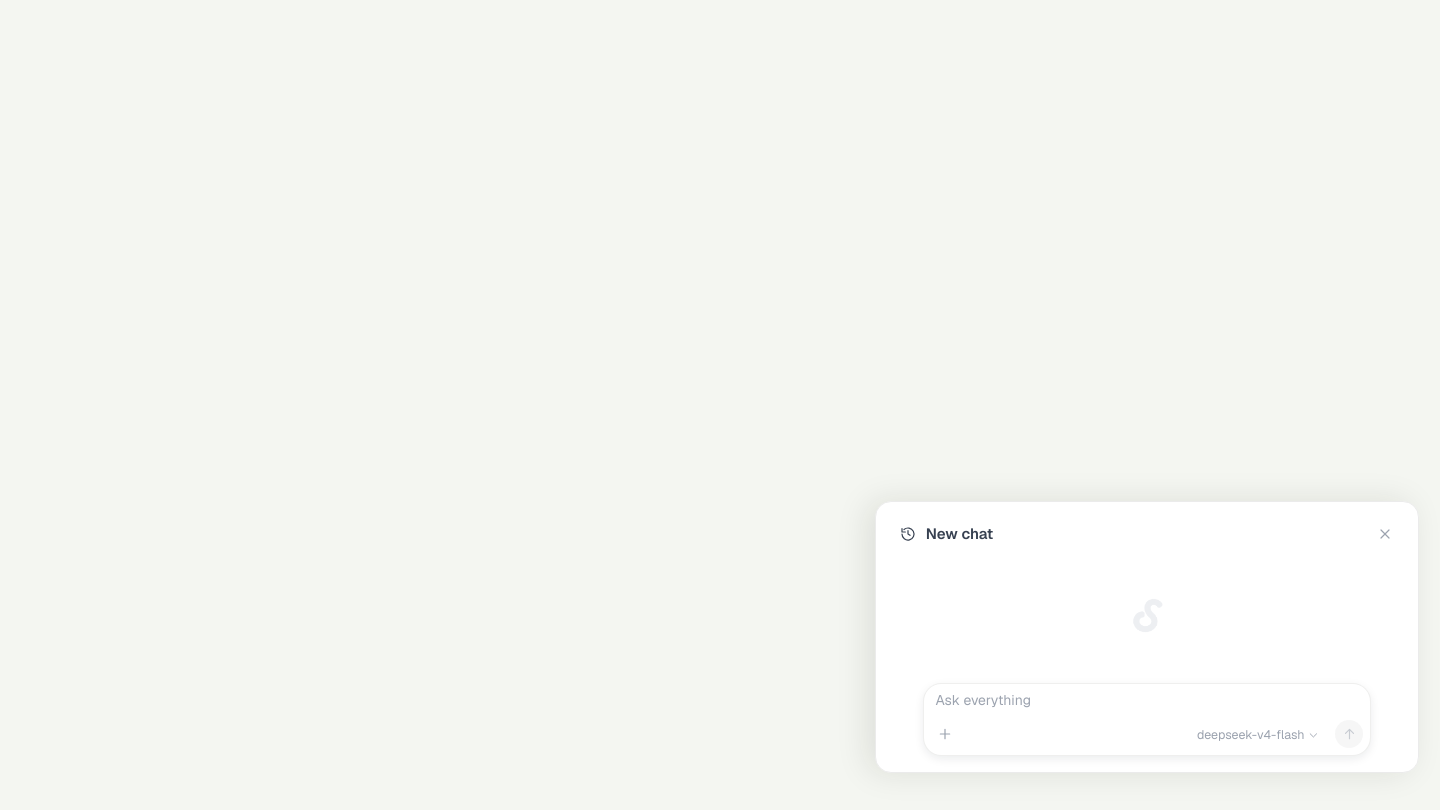
WorkspaceAiChat composer › keeps the textarea writable and preserves a next draft while a request is pending
This screenshot has width=1440, height=810.
Step 1. Type "Prima domanda" into the text box named "Messaggio per Ask to AI" → coordinates (1147, 706), box [935,691,1359,722]
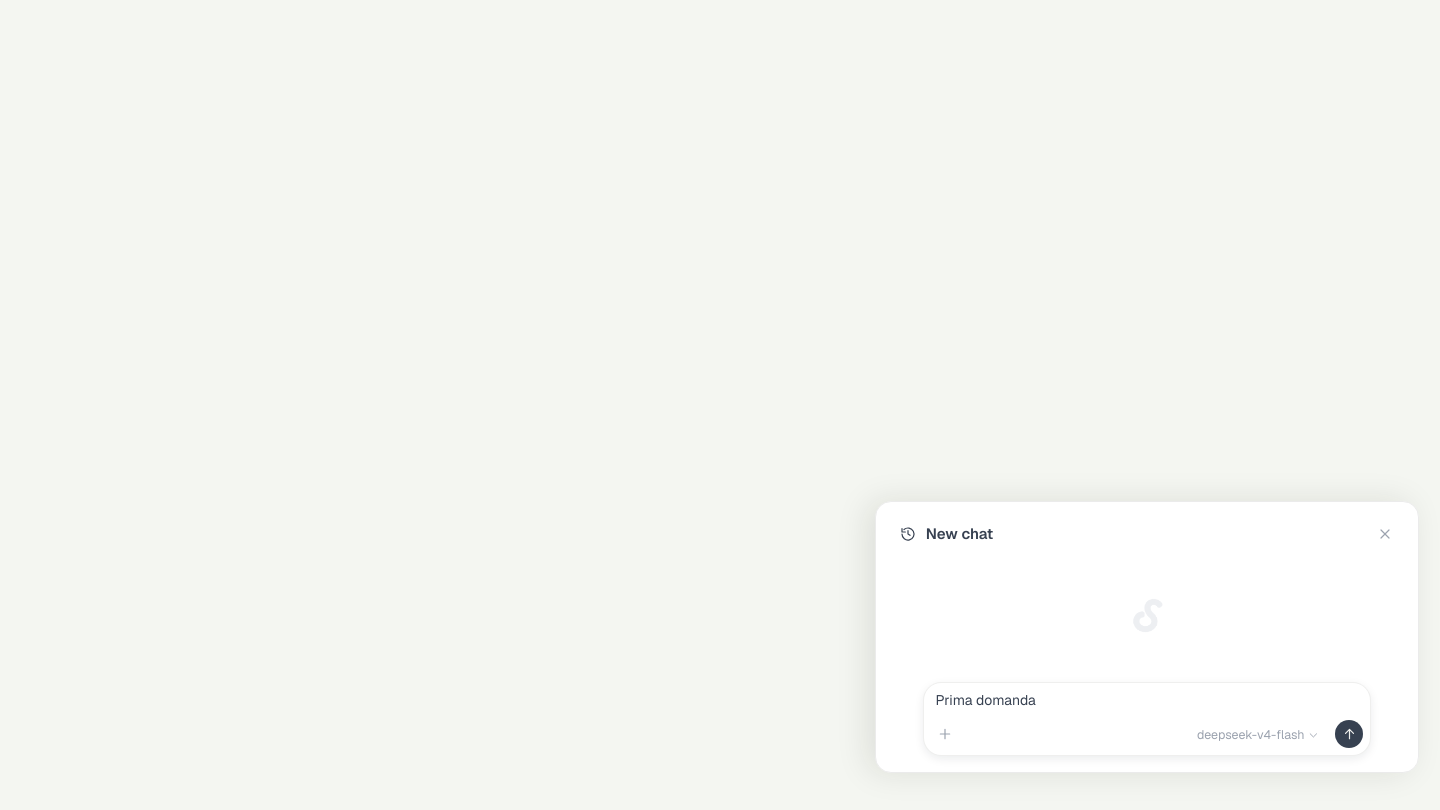
Step 2. Click the button named "Invia messaggio" → coordinates (1349, 734), box [1335,720,1363,748]
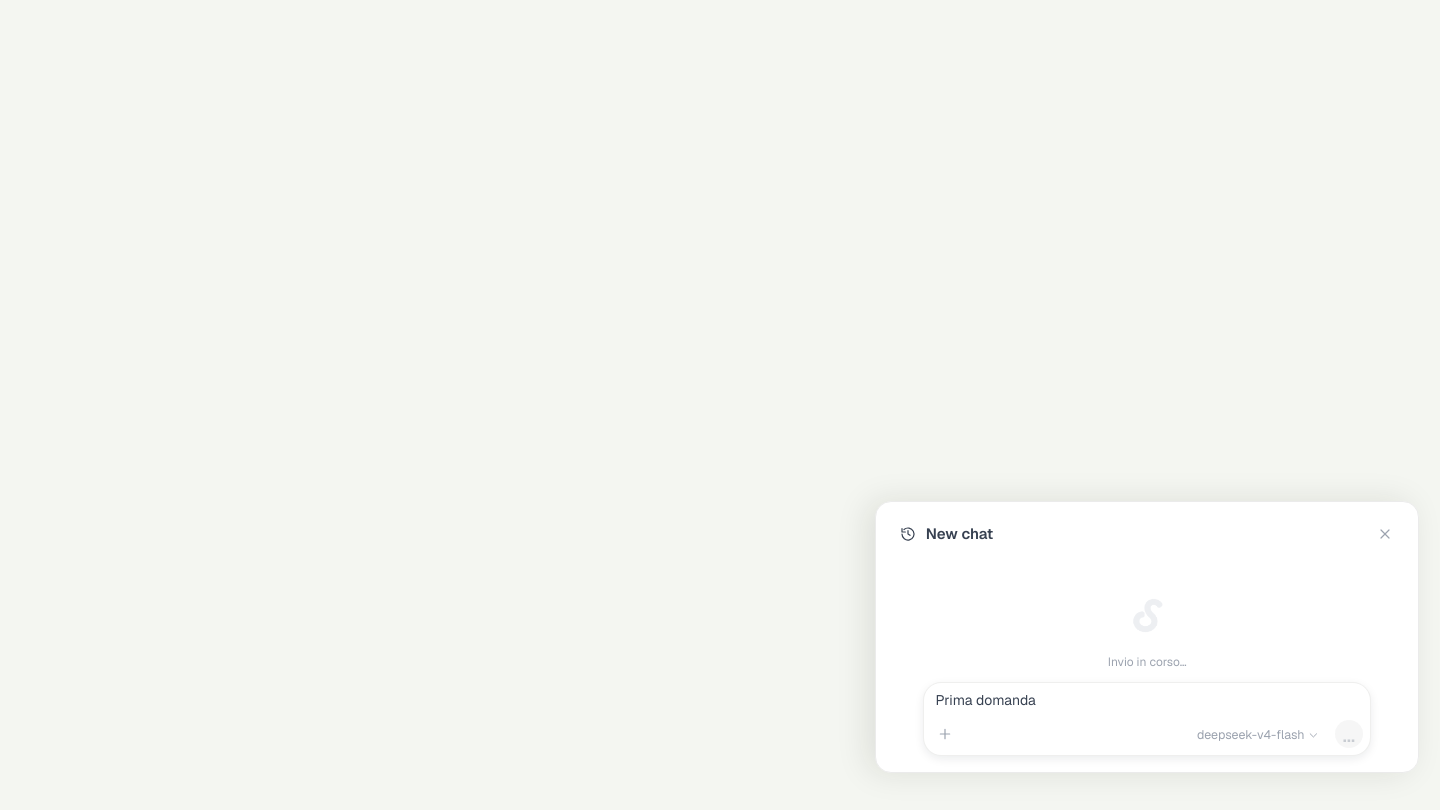
Result: the message reads "Invio in corso…" at [1108,654,1187,670]
Step 3. Type " e seconda bozza" into the text box named "Messaggio per Ask to AI" → coordinates (1147, 706), box [935,691,1359,722]
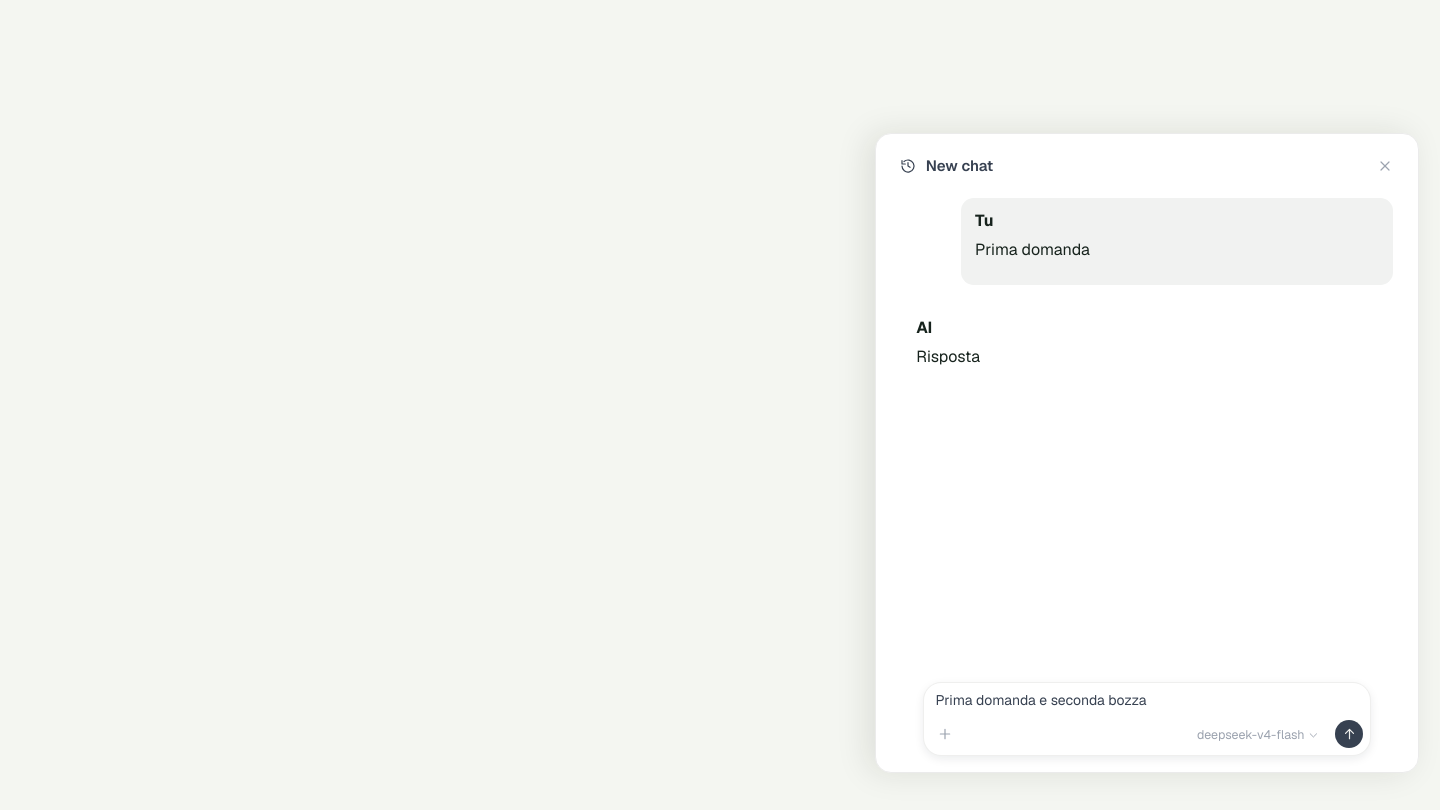
Result: the text "Risposta" is shown at [916,346,980,367]
Result: the text box named "Messaggio per Ask to AI" holds "Prima domanda e seconda bozza" at [935,691,1359,722]
